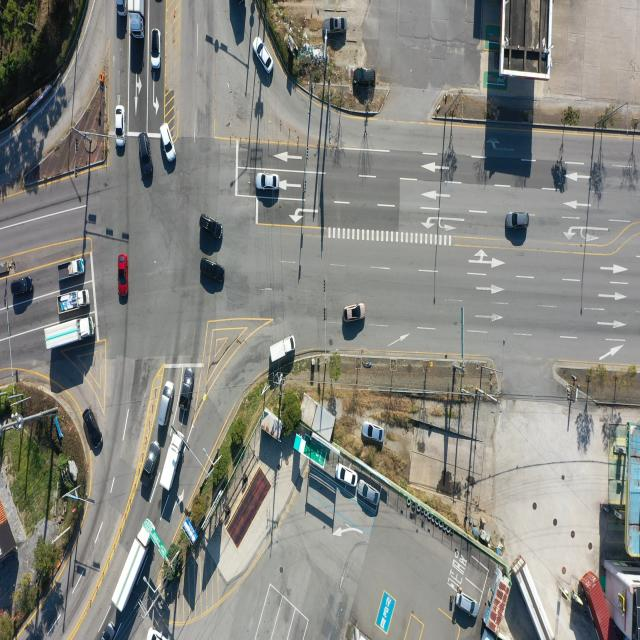car: (82, 408, 102, 454), (253, 37, 273, 75), (141, 441, 159, 482), (159, 381, 175, 427), (199, 214, 223, 242), (138, 132, 152, 178), (160, 124, 176, 163), (201, 261, 225, 286), (458, 589, 477, 620), (182, 368, 194, 415), (354, 68, 376, 93), (358, 482, 379, 508), (336, 463, 358, 487), (114, 106, 125, 148), (10, 276, 33, 296), (150, 30, 161, 70), (507, 211, 531, 229), (117, 256, 128, 294), (362, 423, 383, 442), (343, 305, 365, 323), (256, 173, 279, 190), (326, 18, 346, 34), (102, 622, 118, 640), (146, 624, 164, 640)
medium_truck: (113, 516, 157, 614), (518, 556, 557, 638), (45, 316, 96, 354), (157, 432, 184, 495), (125, 0, 144, 38)
small_truck: (268, 335, 294, 365), (60, 289, 90, 313), (58, 259, 86, 283), (482, 628, 501, 640), (116, 0, 126, 16)
